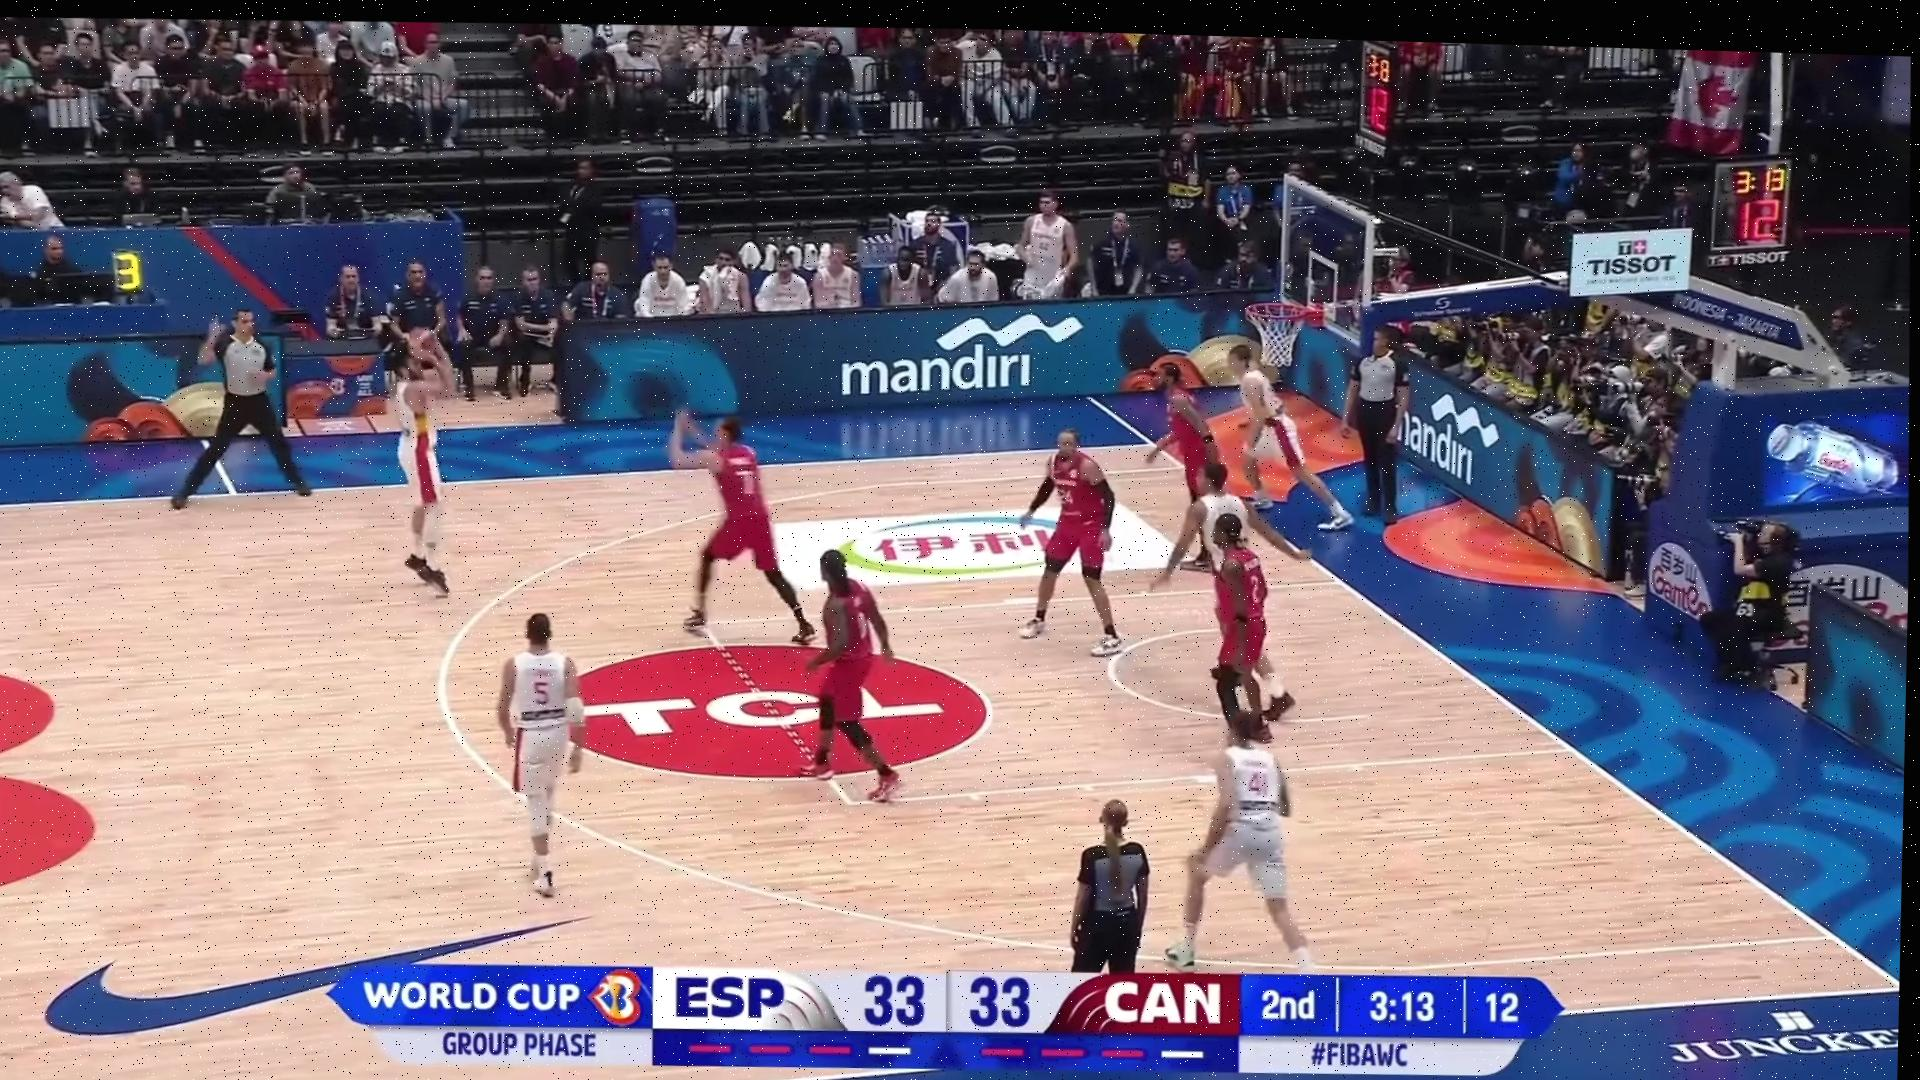no_foul: (338, 334, 498, 600)
